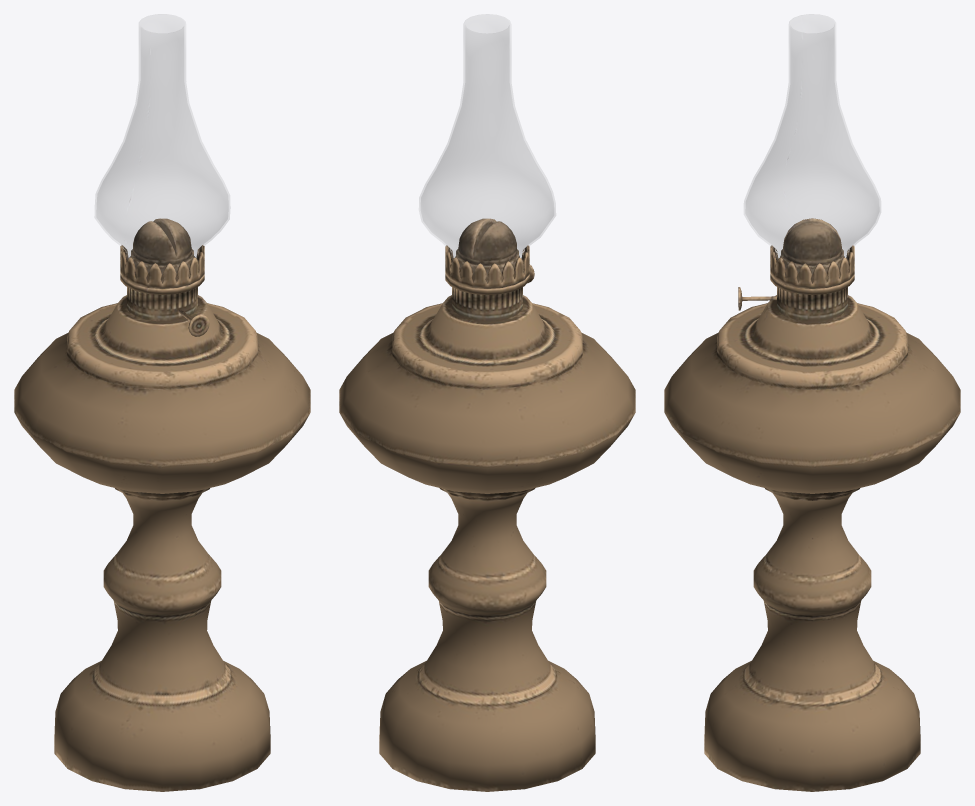
Rendered from p_lantern.glb.
The picture shows the model from 3 angles, left to right: view 1: azimuth 30°, elevation 25°; view 2: azimuth 150°, elevation 25°; view 3: azimuth 270°, elevation 25°; orthographic projection.
Parts seen in each view (by area): view 1: g; view 2: g; view 3: g.
Boxes of the visible parts, x1,y1,x2,y2 form: g: (14, 14, 310, 791); g: (339, 14, 635, 791); g: (664, 14, 960, 791).
Bounding box in the file's own units: 0.7568 × 2 × 0.7453.
1 material, 1 textured.
